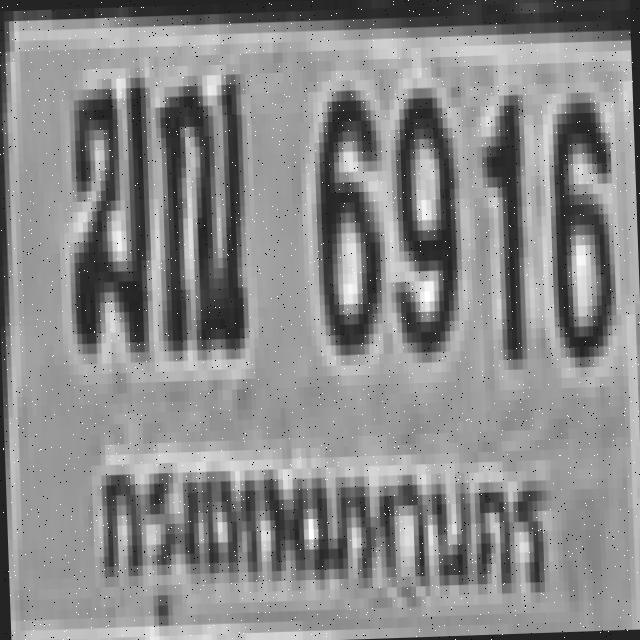1: (474, 84, 527, 360)
15KhorRaKhang: (60, 72, 152, 349)
28NorNen: (151, 64, 247, 350)
6: (541, 81, 613, 358), (307, 80, 378, 346)
9: (384, 82, 454, 348)
Bangkok: (80, 429, 560, 640)
